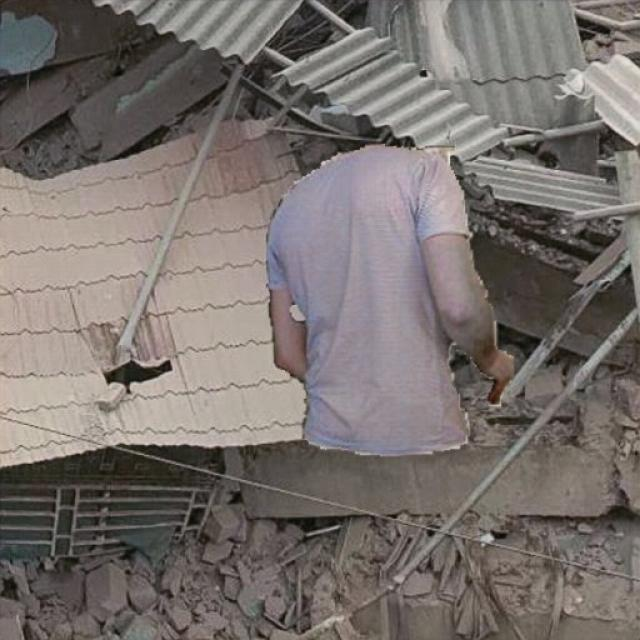Person in Rubble: (266, 144, 512, 455)
